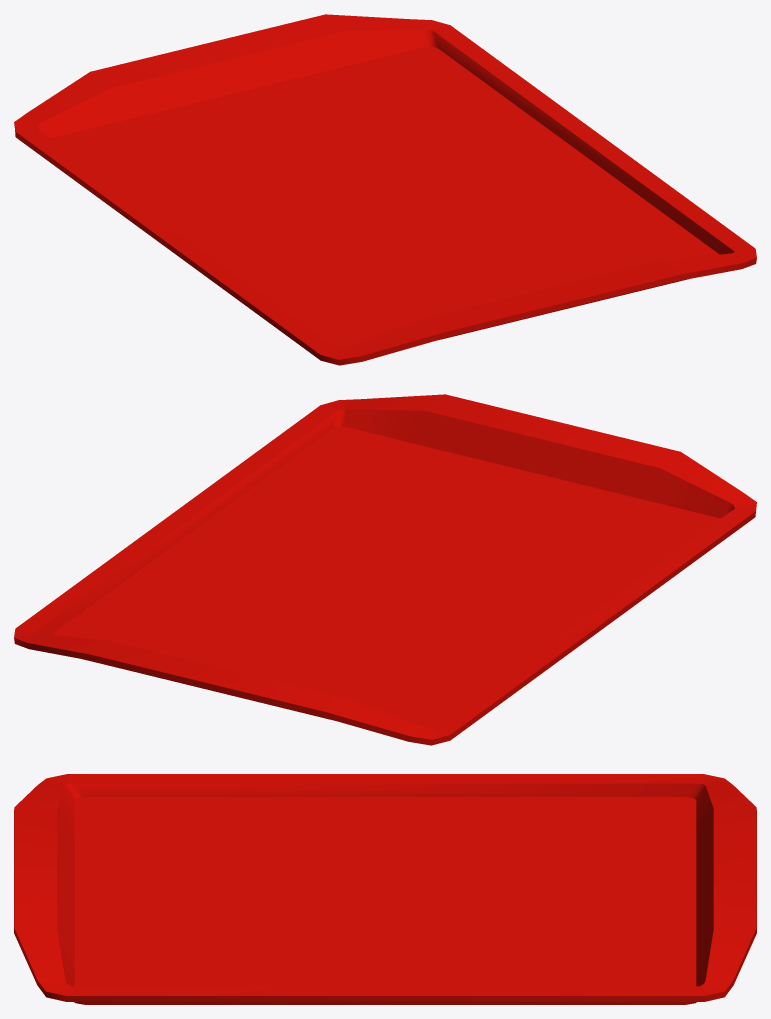
File: tray.FBX
3 views of the same model, one above another, from view 1: azimuth 30°, elevation 25°; view 2: azimuth 150°, elevation 25°; view 3: azimuth 270°, elevation 25° (orthographic). The views are drawn at different scales.
Visible parts, largest first — view 1: tray; view 2: tray; view 3: tray.
Boxes of the visible parts, bbox=[...] form: tray: bbox=[14, 14, 756, 365]; tray: bbox=[14, 394, 756, 745]; tray: bbox=[14, 774, 756, 1004].
Size of the model in its own units: 41.8 by 3.05 by 59.17.
